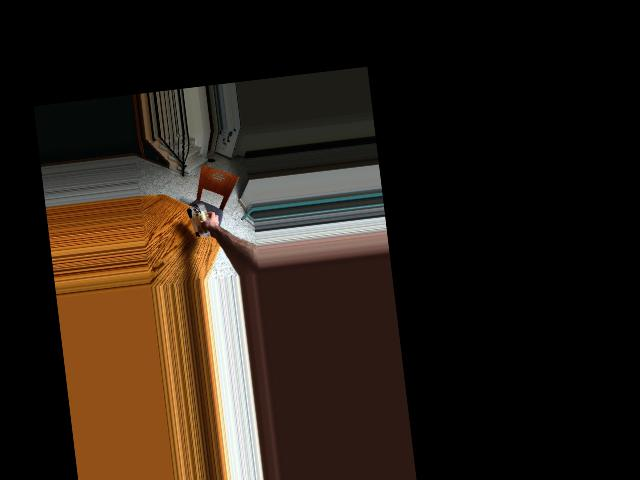cheese: (186, 203, 212, 239)
